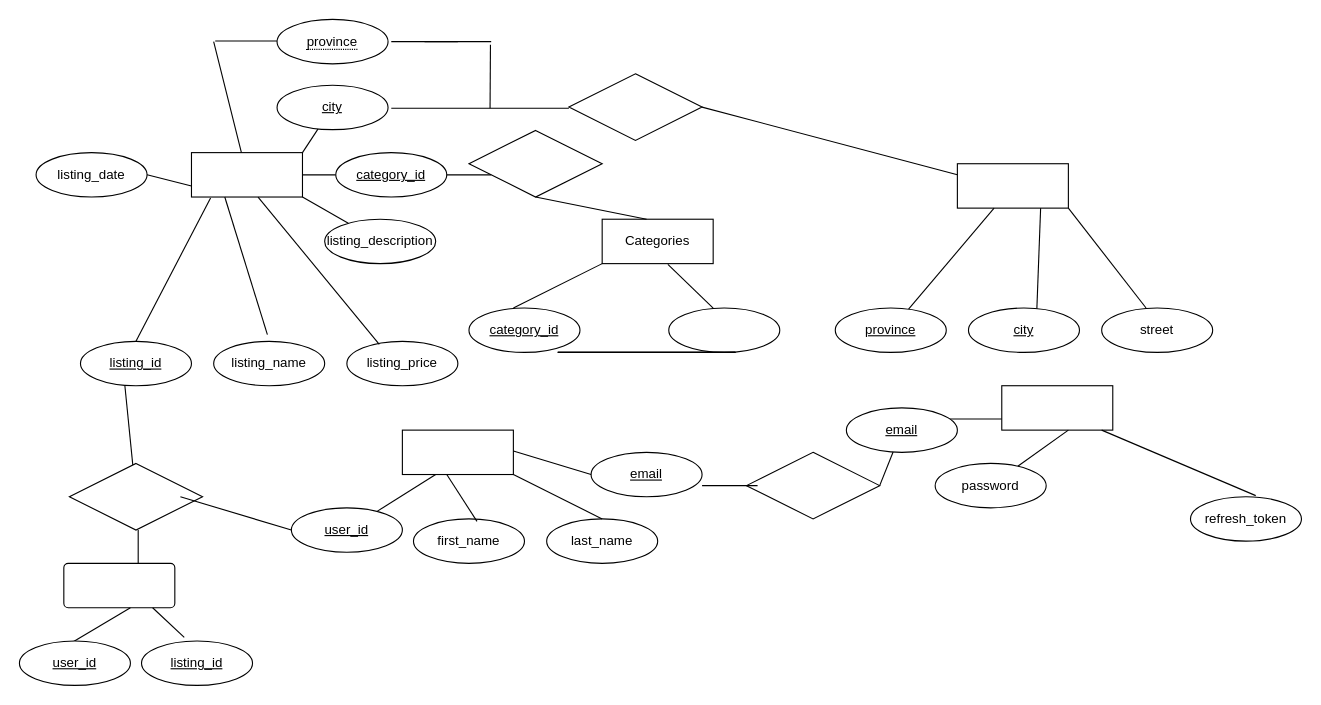
Some shapes in this 1321 by 705 pixel diagram are drawn without their labels. Here are the shapes that lost their labels. From the top down, the box of each, then its label:
(568, 73, 702, 140): has location of
(190, 152, 302, 197): Listing
(468, 129, 602, 197): has category of
(956, 163, 1068, 208): Location
(668, 307, 780, 352): category_name
(1001, 385, 1113, 430): Auth
(401, 429, 513, 475): User
(68, 462, 203, 530): look up
(745, 451, 880, 519): has auth info
(63, 562, 175, 608): lookup_listings
